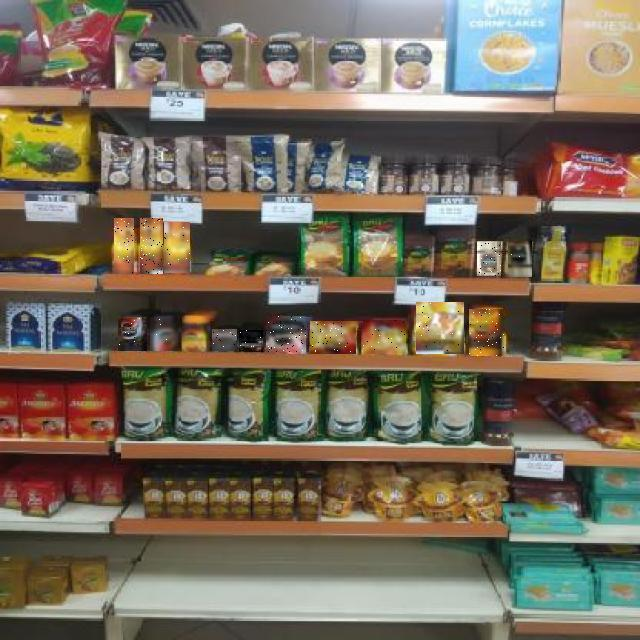Coffee: (416, 303, 464, 355), (470, 309, 506, 356), (310, 321, 356, 354), (363, 321, 406, 355), (266, 316, 306, 352), (165, 222, 191, 273), (140, 218, 163, 274), (115, 218, 135, 274), (182, 316, 210, 352), (118, 317, 147, 351), (150, 317, 178, 351), (508, 241, 532, 277), (477, 241, 501, 276), (212, 329, 237, 351), (239, 330, 263, 352)
